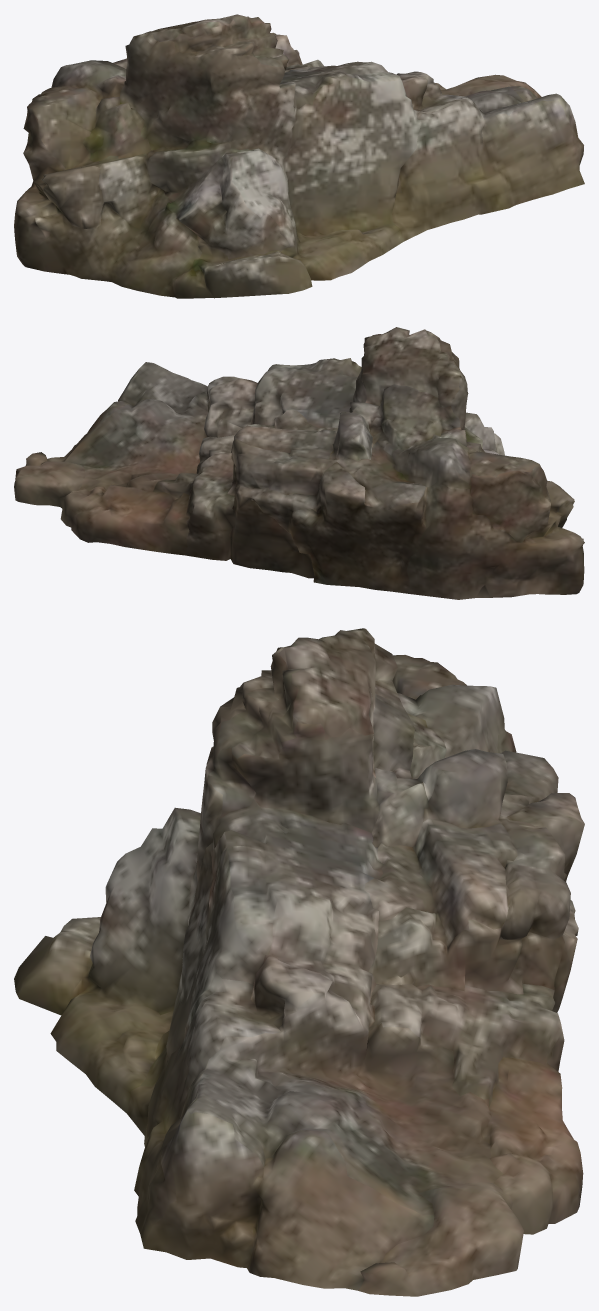
The model's file is S_Nordic_Beach_Rock_Formation_vehkdeodb_lod3_Var1_860dae.glb.
The picture shows the model from 3 angles, top to bottom: view 1: azimuth 30°, elevation 25°; view 2: azimuth 150°, elevation 25°; view 3: azimuth 270°, elevation 25°; orthographic projection. The views are drawn at different scales.
Size of the model in its own units: 4.61 by 1.82 by 2.47.
1 material, 1 textured.
